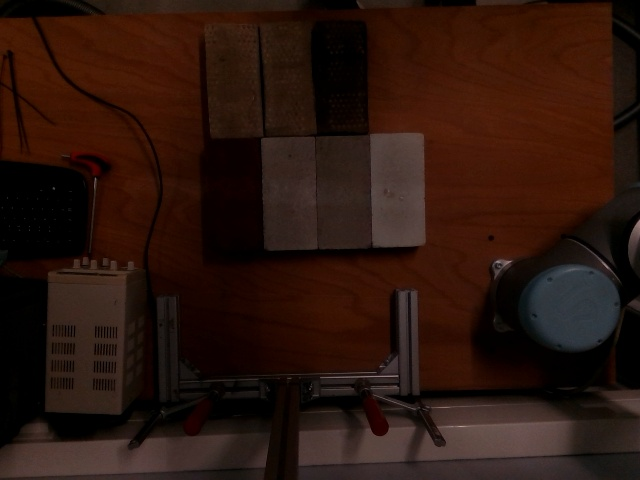brick: (368, 132, 424, 245), (261, 134, 316, 247), (205, 20, 260, 133), (314, 133, 369, 245), (259, 19, 314, 131)
